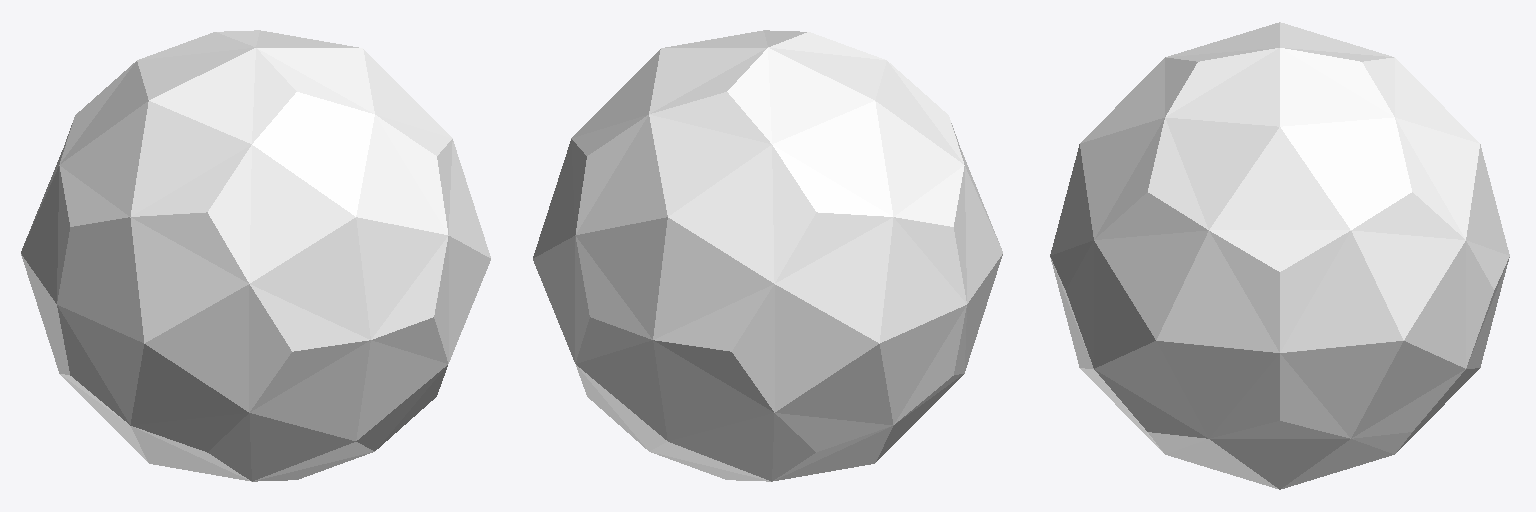
File: playerSphere.obj
3 renders of one model, left to right at view 1: azimuth 30°, elevation 25°; view 2: azimuth 150°, elevation 25°; view 3: azimuth 270°, elevation 25°, orthographic.
Bounding box in the file's own units: 10.86 × 10.86 × 10.86.